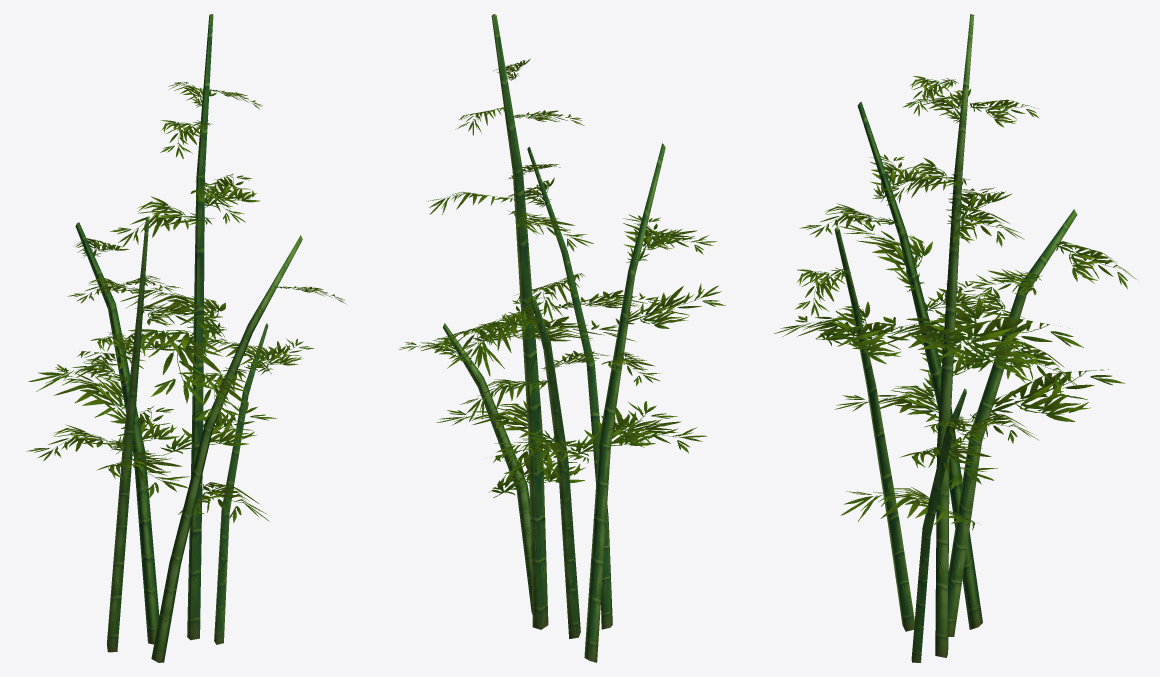
The model's file is environment_Tree_zhuzi_001_b.FBX.
3 views of the same model, side by side, from view 1: azimuth 30°, elevation 25°; view 2: azimuth 150°, elevation 25°; view 3: azimuth 270°, elevation 25° (orthographic). The views are drawn at different scales.
Parts seen in each view (by area): view 1: environment_Tree_zhuzi_001_b01, environment_Tree_zhuzi_001_b02; view 2: environment_Tree_zhuzi_001_b02, environment_Tree_zhuzi_001_b01; view 3: environment_Tree_zhuzi_001_b01, environment_Tree_zhuzi_001_b02.
Part boxes in pixels (<box>): environment_Tree_zhuzi_001_b01: <box>26,81,345,523</box>; environment_Tree_zhuzi_001_b02: <box>75,14,302,662</box>; environment_Tree_zhuzi_001_b02: <box>443,14,665,662</box>; environment_Tree_zhuzi_001_b01: <box>398,58,725,497</box>; environment_Tree_zhuzi_001_b01: <box>773,76,1137,530</box>; environment_Tree_zhuzi_001_b02: <box>834,14,1077,662</box>.
Bounding box in the file's own units: 573 × 1074 × 547.
2 materials, 2 textured.
